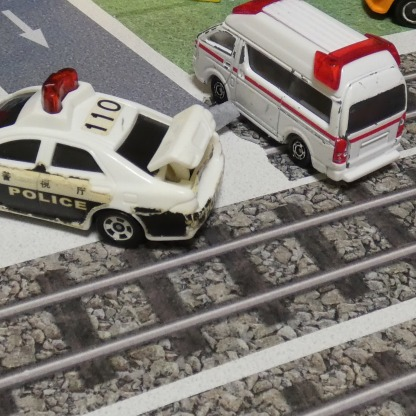car: (0, 75, 218, 250), (200, 0, 404, 186)
